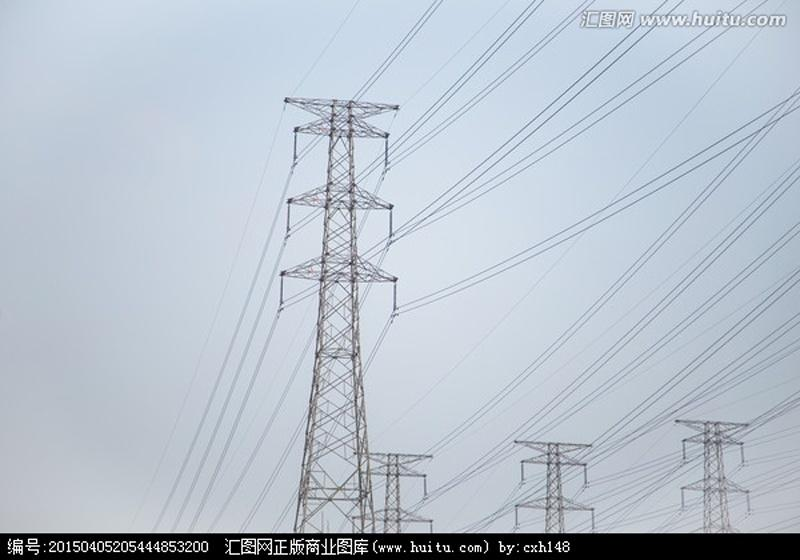power_tower: (276, 88, 424, 539), (668, 405, 762, 533), (357, 441, 440, 534), (513, 443, 592, 539)
